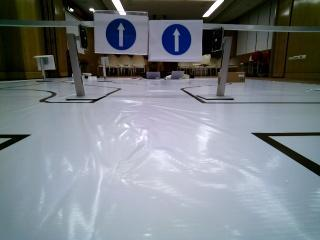straight: (94, 11, 148, 54), (148, 20, 202, 62)
